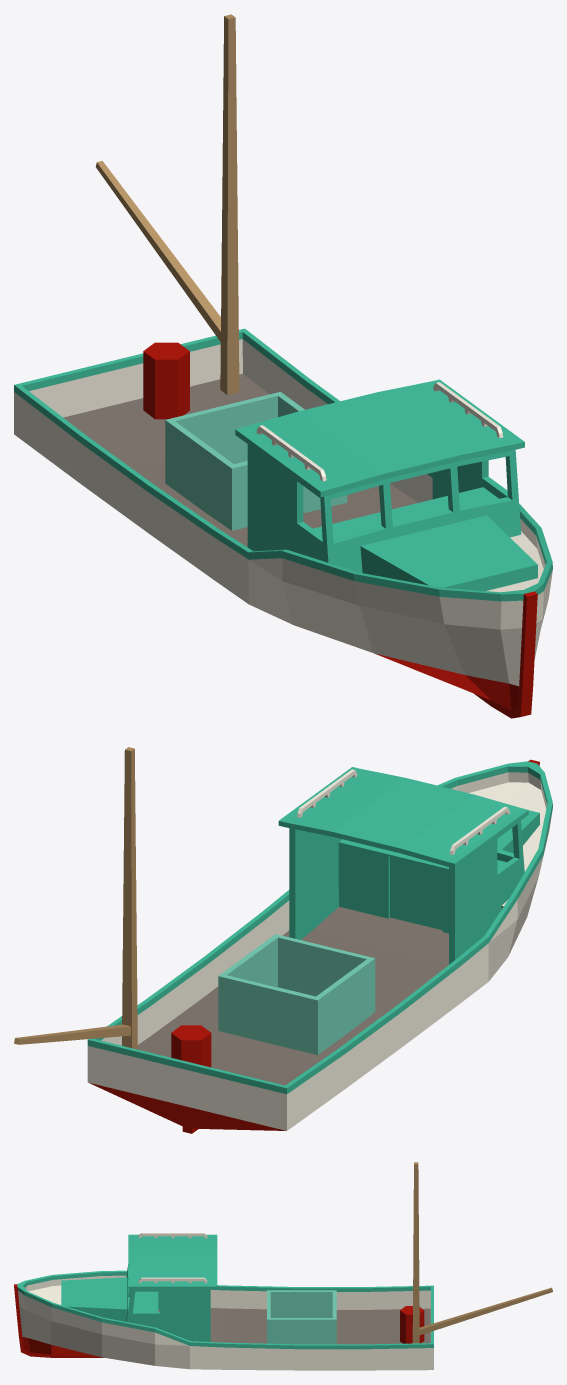
Rendered from fishingBoat.glb.
3 renders of one model, top to bottom at view 1: azimuth 30°, elevation 25°; view 2: azimuth 150°, elevation 25°; view 3: azimuth 270°, elevation 25°, orthographic. The views are drawn at different scales.
Parts seen in each view (by area): view 1: hull, cab, cabin, catchBox, mainMast, drum, spar, holdRail; view 2: hull, cab, catchBox, cabin, mainMast, drum, spar, holdRail; view 3: hull, cab, catchBox, cabin, mainMast, spar, holdRail, drum.
Boxes of the visible parts, left/top/right/bottom form: hull: left=14, top=328, right=552, bottom=718; cab: left=235, top=379, right=524, bottom=572; cabin: left=313, top=487, right=537, bottom=590; catchBox: left=165, top=392, right=347, bottom=530; mainMast: left=220, top=14, right=239, bottom=394; drum: left=143, top=342, right=189, bottom=419; spar: left=96, top=161, right=220, bottom=341; holdRail: left=256, top=382, right=503, bottom=481; hull: left=87, top=759, right=552, bottom=1133; cab: left=278, top=767, right=528, bottom=964; catchBox: left=218, top=934, right=375, bottom=1055; cabin: left=338, top=810, right=539, bottom=933; mainMast: left=122, top=747, right=137, bottom=1049; drum: left=171, top=1025, right=211, bottom=1067; spar: left=14, top=1024, right=130, bottom=1044; holdRail: left=297, top=769, right=509, bottom=855; hull: left=14, top=1270, right=433, bottom=1370; cab: left=125, top=1234, right=217, bottom=1341; catchBox: left=267, top=1290, right=336, bottom=1344; cabin: left=61, top=1277, right=158, bottom=1321; mainMast: left=412, top=1162, right=419, bottom=1343; spar: left=419, top=1287, right=552, bottom=1335; holdRail: left=138, top=1233, right=207, bottom=1283; drum: left=400, top=1306, right=424, bottom=1343.
Bounding box in the file's own units: 4 × 6.81 × 15.53.
Materials: 1 (1 with a texture image).
